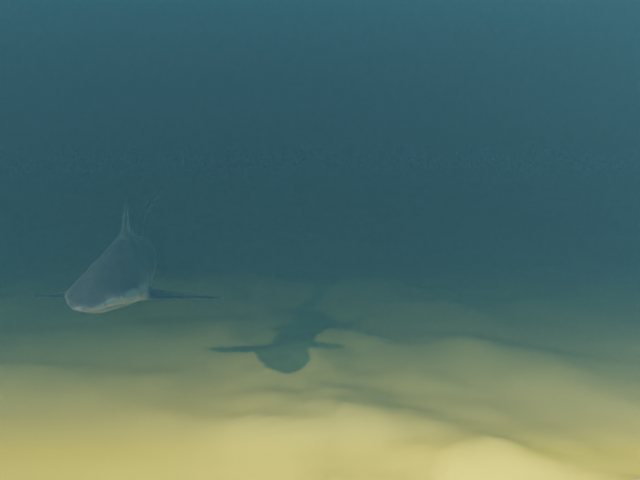Carribean Shark.001: (33, 187, 220, 313)
